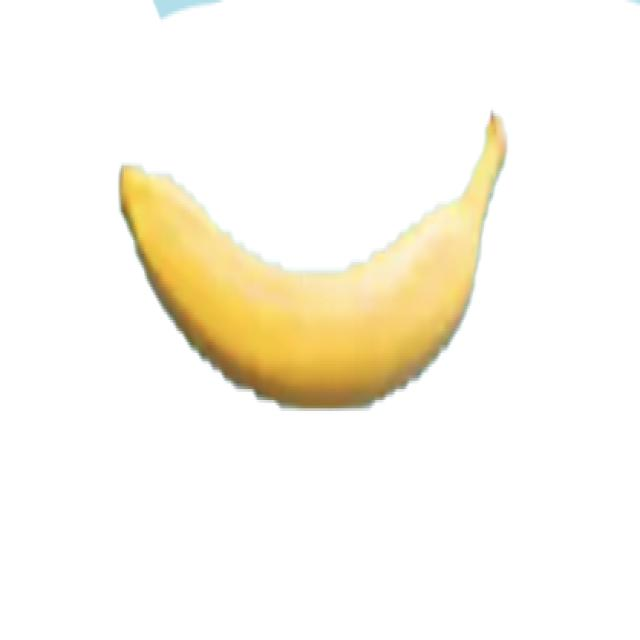fresh-banana: (118, 108, 507, 411)
